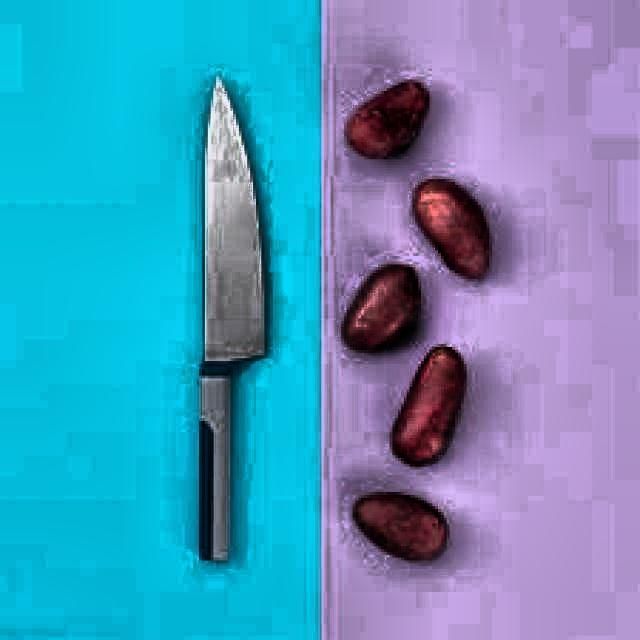knife: (197, 78, 264, 563)
